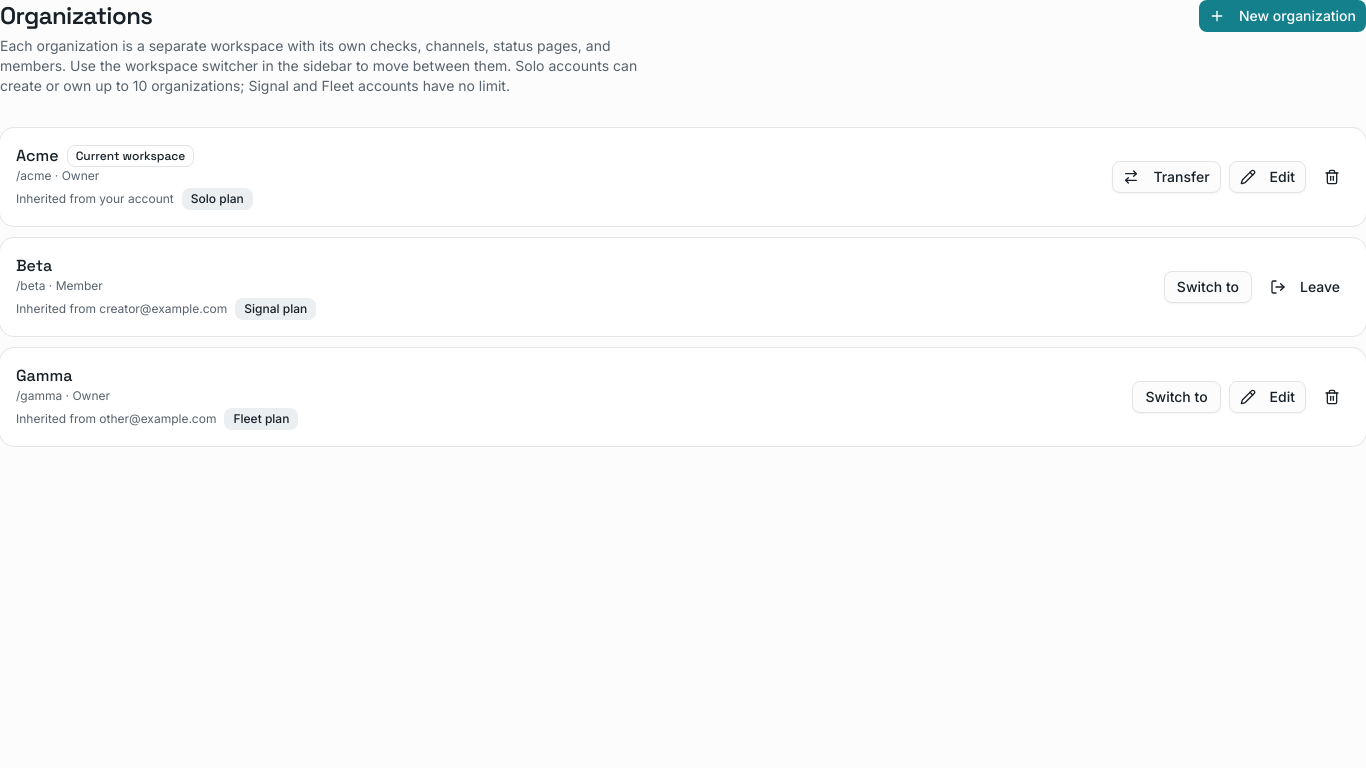
Test: OrganizationsPage › says deletion leaves account billing unaffected and rejects stale cancellation copy
Click the button named "delete gamma".
click(1332, 397)  # box [1314,379,1350,415]
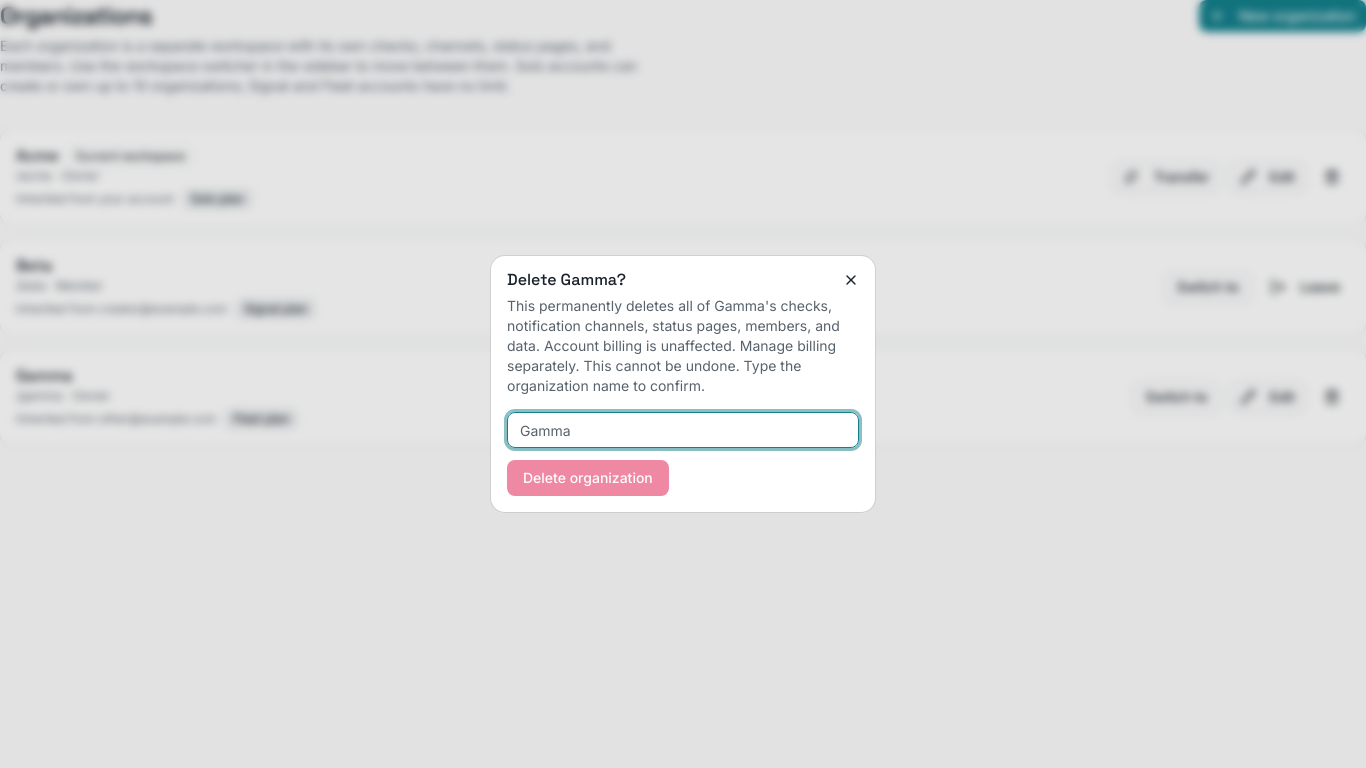
Expected: the text "this permanently deletes all of gamma's checks, notification channels, status pages, members, and data" is shown, [507,296,859,396]
Expected: the text "manage billing separately" is shown, [507,297,840,394]
